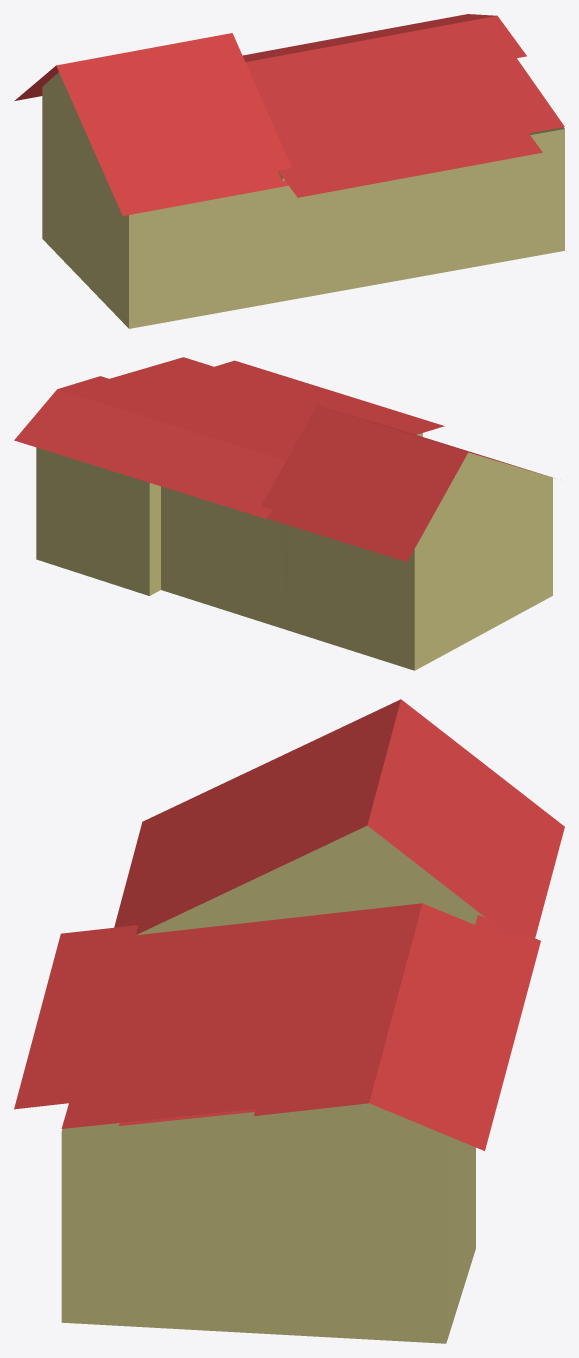
3 renders of one model, top to bottom at view 1: azimuth 30°, elevation 25°; view 2: azimuth 150°, elevation 25°; view 3: azimuth 270°, elevation 25°, orthographic. The views are drawn at different scales.
Size of the model in its own units: 23.52 by 15.79 by 10.06.
